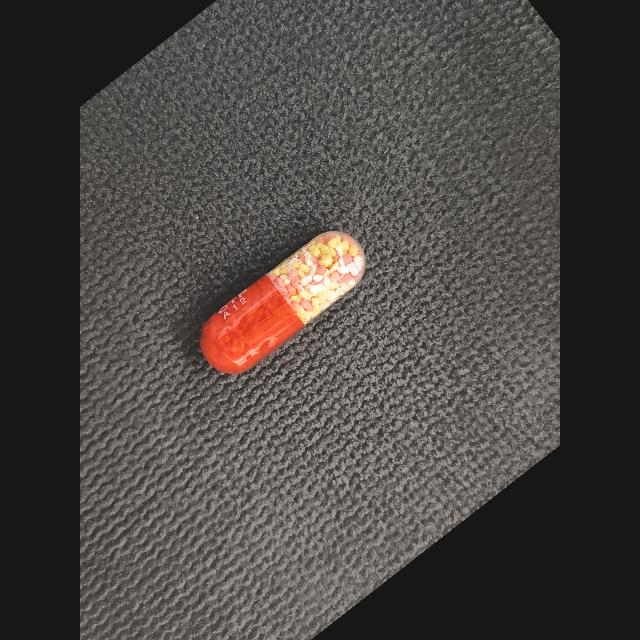Intact Capsule: (200, 231, 366, 374)
